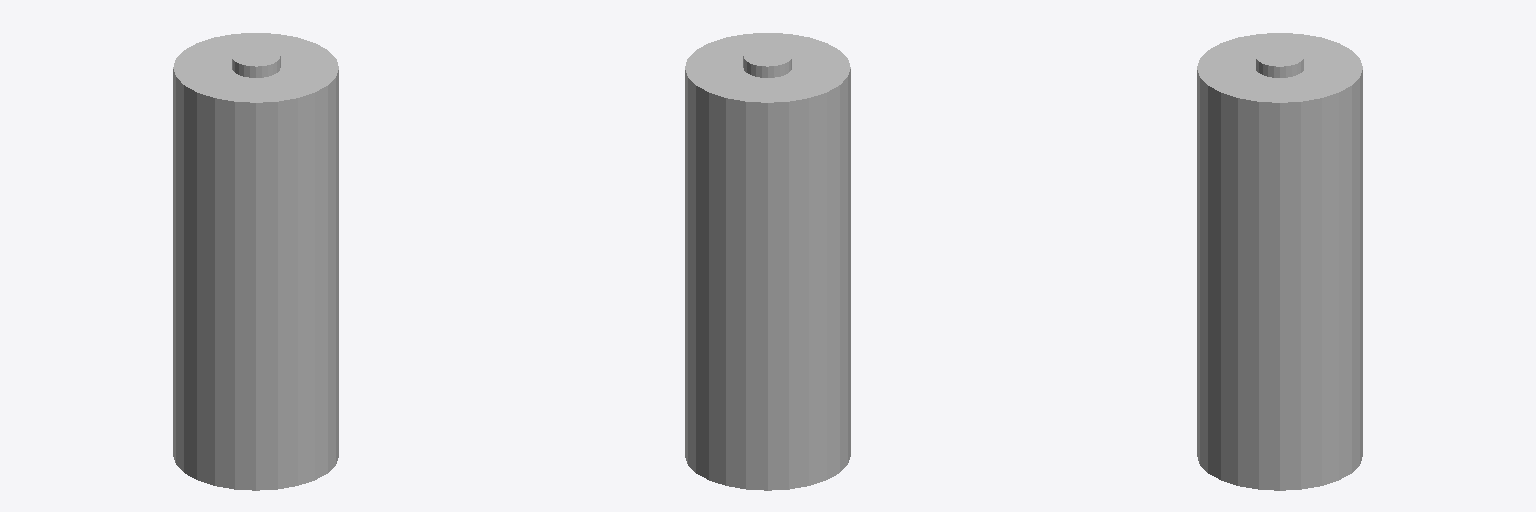
Rendered from pilha.obj.
3 views of the same model, side by side, from view 1: azimuth 30°, elevation 25°; view 2: azimuth 150°, elevation 25°; view 3: azimuth 270°, elevation 25° (orthographic).
Parts seen in each view (by area): view 1: Cylinder; view 2: Cylinder; view 3: Cylinder.
Part boxes in pixels (bbox=[...]): Cylinder: bbox=[173, 33, 338, 490]; Cylinder: bbox=[685, 33, 850, 490]; Cylinder: bbox=[1197, 33, 1362, 490].
Bounding box in the file's own units: 2 × 5.31 × 2.